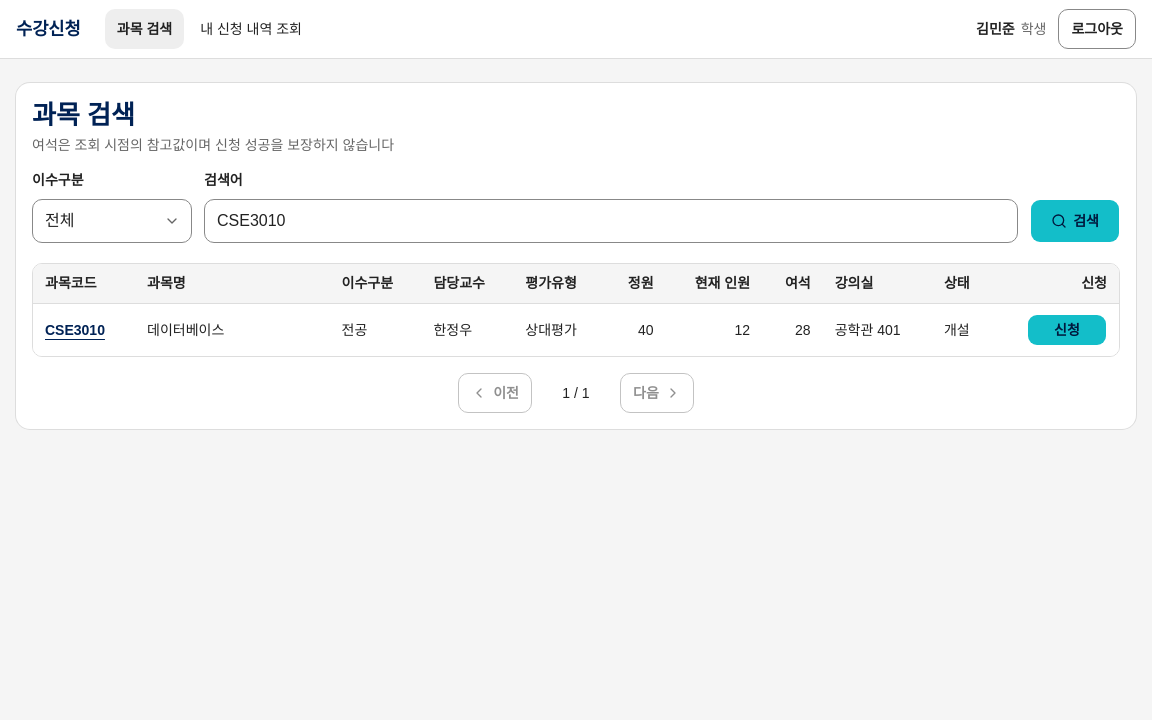
Test case: 갱신 뒤 티켓 재조회 네트워크 실패는 폴링과 잠금을 중단한다
Click the button "신청" at [1067, 330], box [1027, 314, 1107, 346]
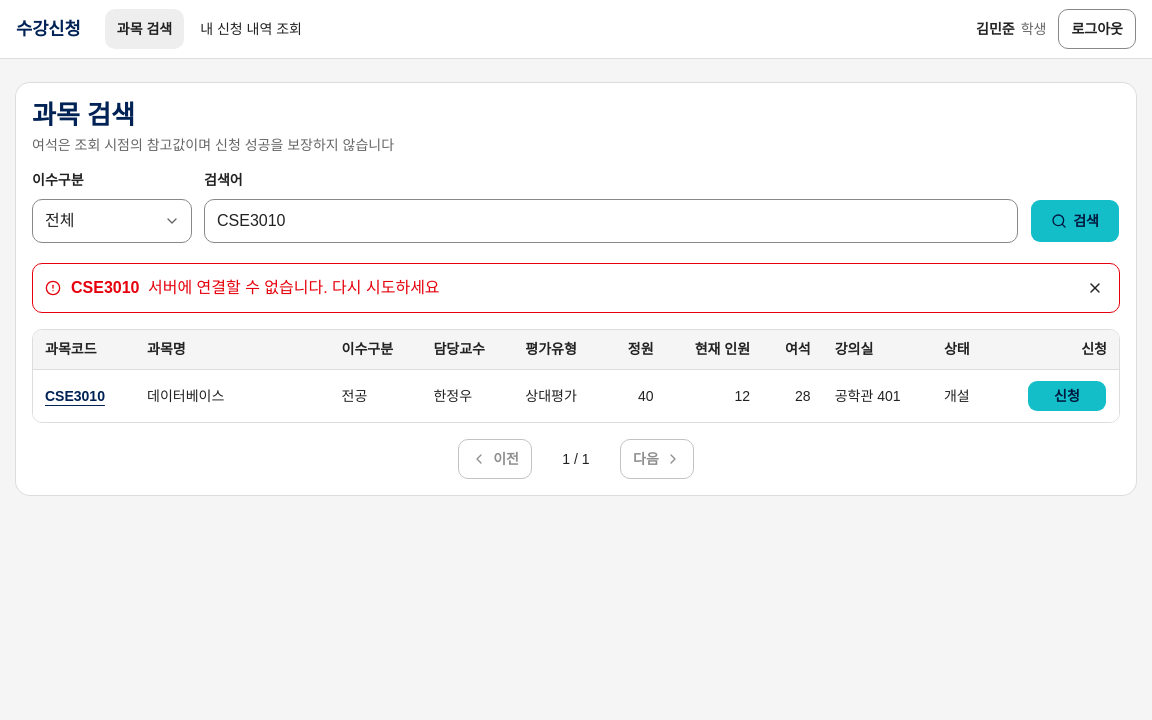
Now the message with test id "request-outcome" shows "서버에 연결할 수 없습니다. 다시 시도하세요", box [148, 279, 440, 296]
